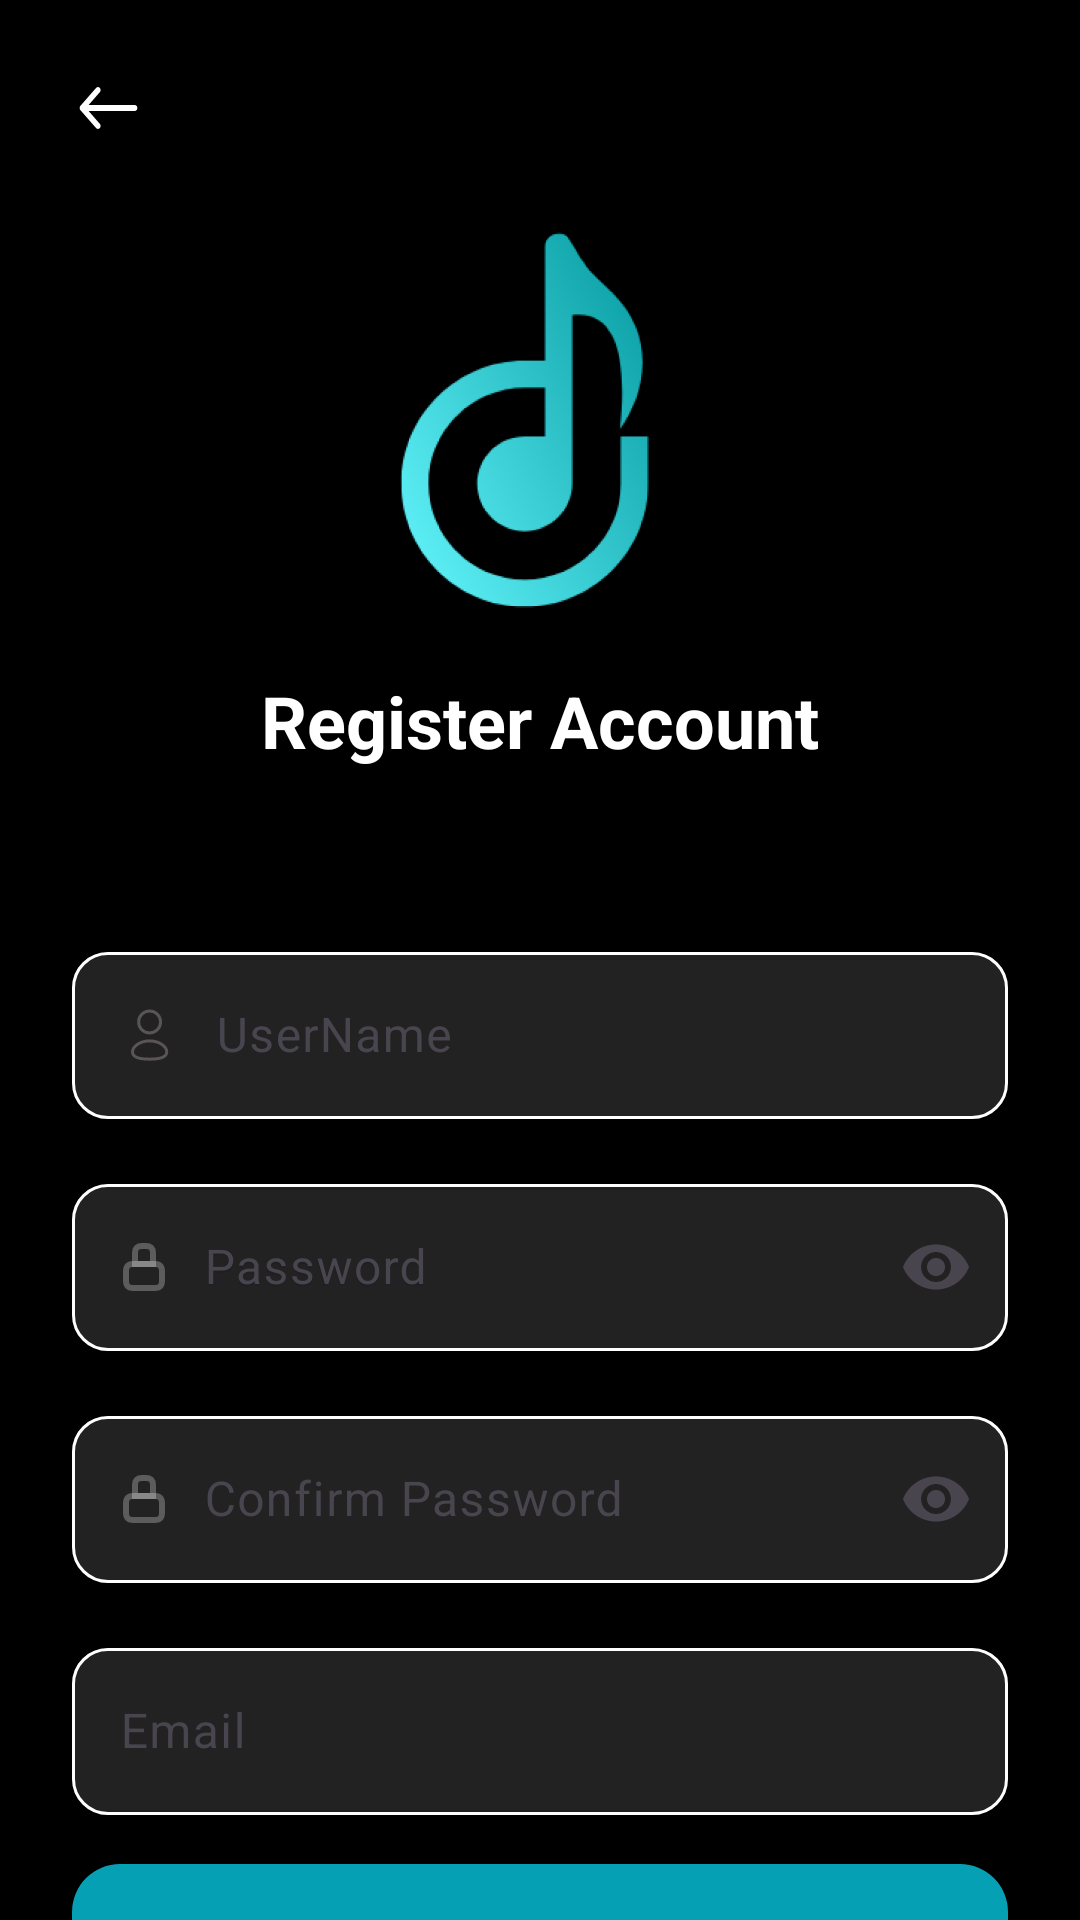

Screen size 1080*1920. Icon name, then its box in pixels as BBox(x1, y1, x2, y2):
back: BBox(79, 87, 138, 129)
